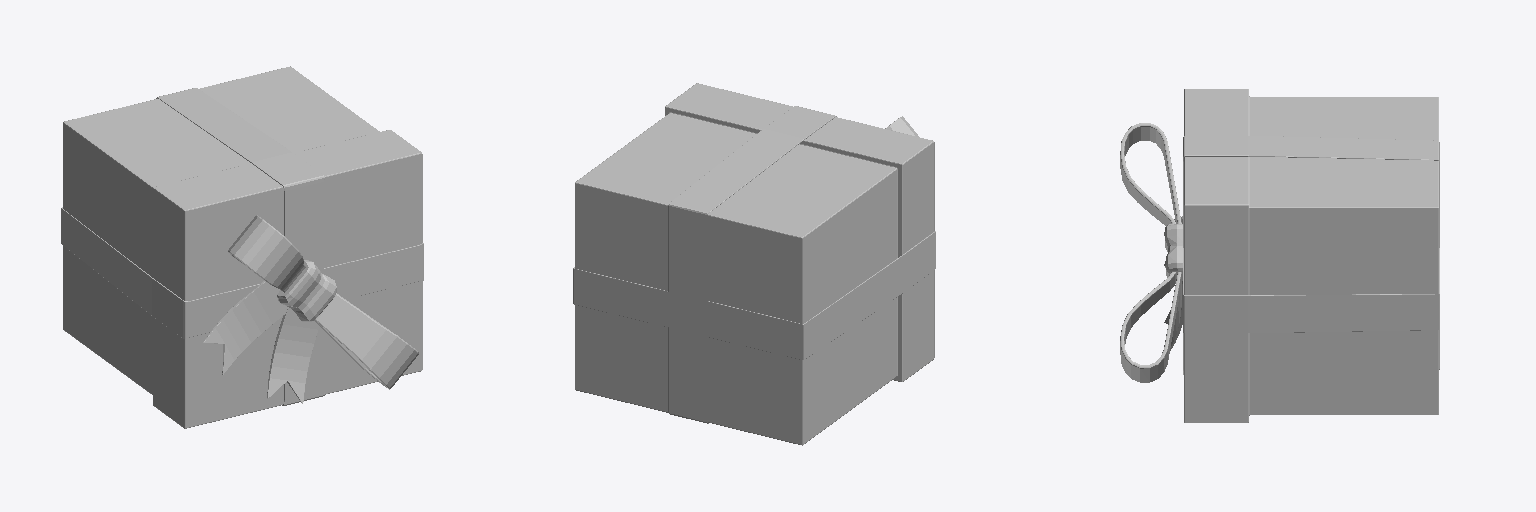
File: present.obj
The picture shows the model from 3 angles: view 1: azimuth 30°, elevation 25°; view 2: azimuth 150°, elevation 25°; view 3: azimuth 270°, elevation 25°; orthographic projection.
Visible parts, largest first — view 1: object_0; view 2: object_0; view 3: object_0.
Part boxes in pixels (x1,y1,x2,y2): object_0: (61,66,423,428); object_0: (573,83,935,445); object_0: (1120,89,1439,422).
Bounding box in the file's own units: 17.11 × 15.04 × 19.71.